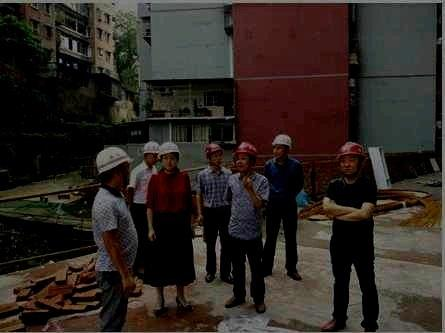helmet: (96, 146, 134, 189), (335, 140, 366, 176), (231, 141, 258, 172), (157, 141, 181, 171), (271, 133, 292, 159), (142, 141, 160, 166), (204, 143, 223, 165)
